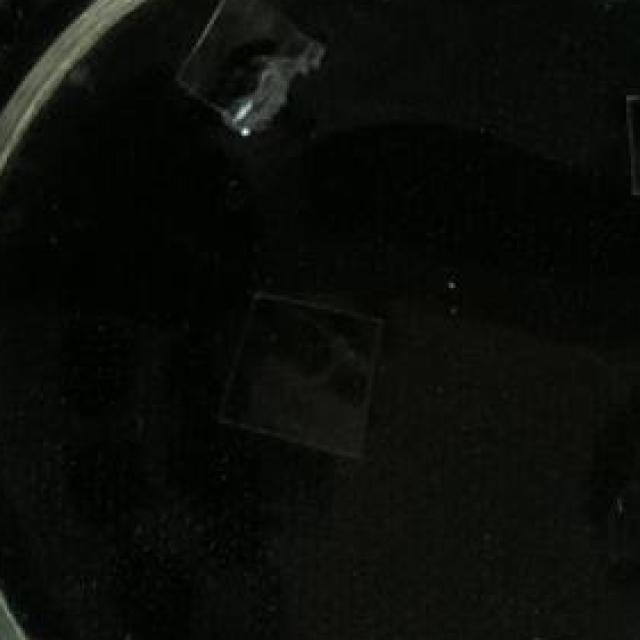Microplastic: (203, 288, 387, 466), (164, 0, 328, 145)
